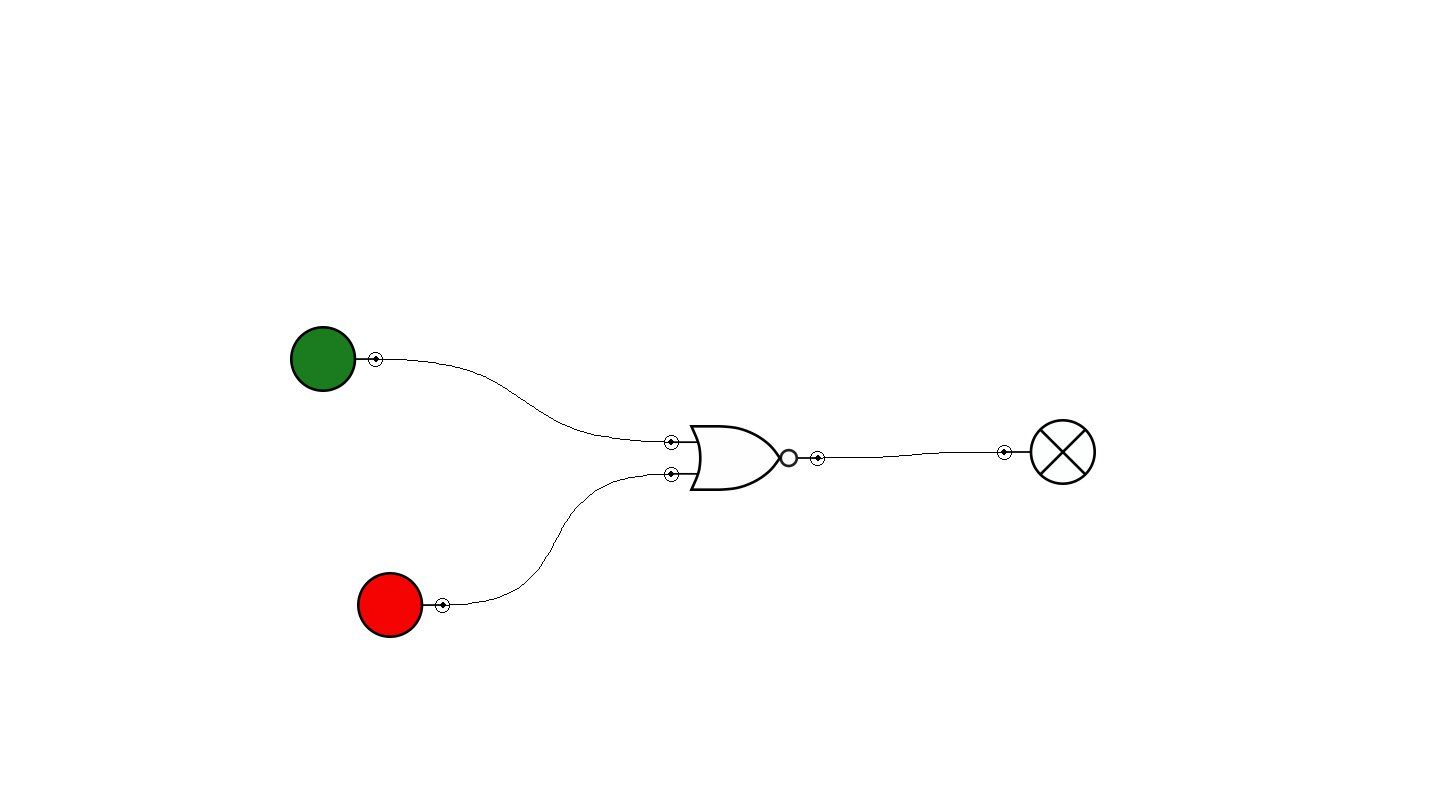bulb: (997, 419, 1096, 485)
nor: (664, 425, 825, 491)
switch_False: (357, 572, 450, 638)
switch_True: (290, 326, 383, 392)
